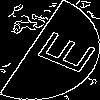E: (25, 25, 98, 76)
